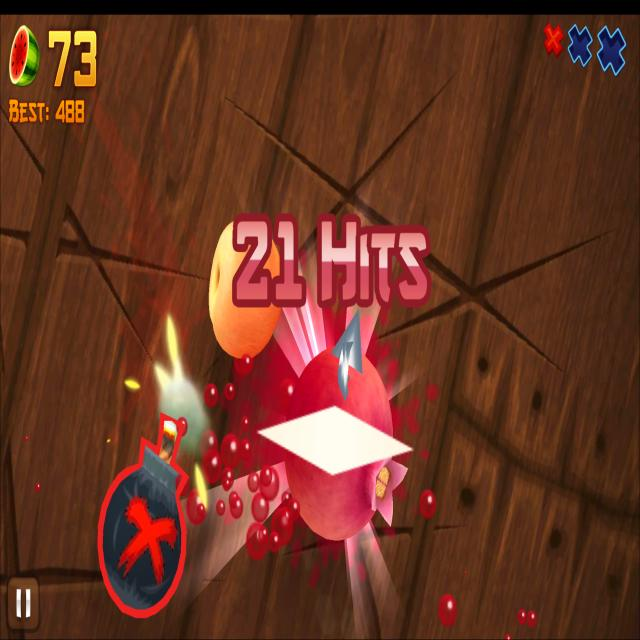bomb: (96, 411, 188, 620)
fruit: (286, 344, 394, 540), (208, 215, 284, 362)
